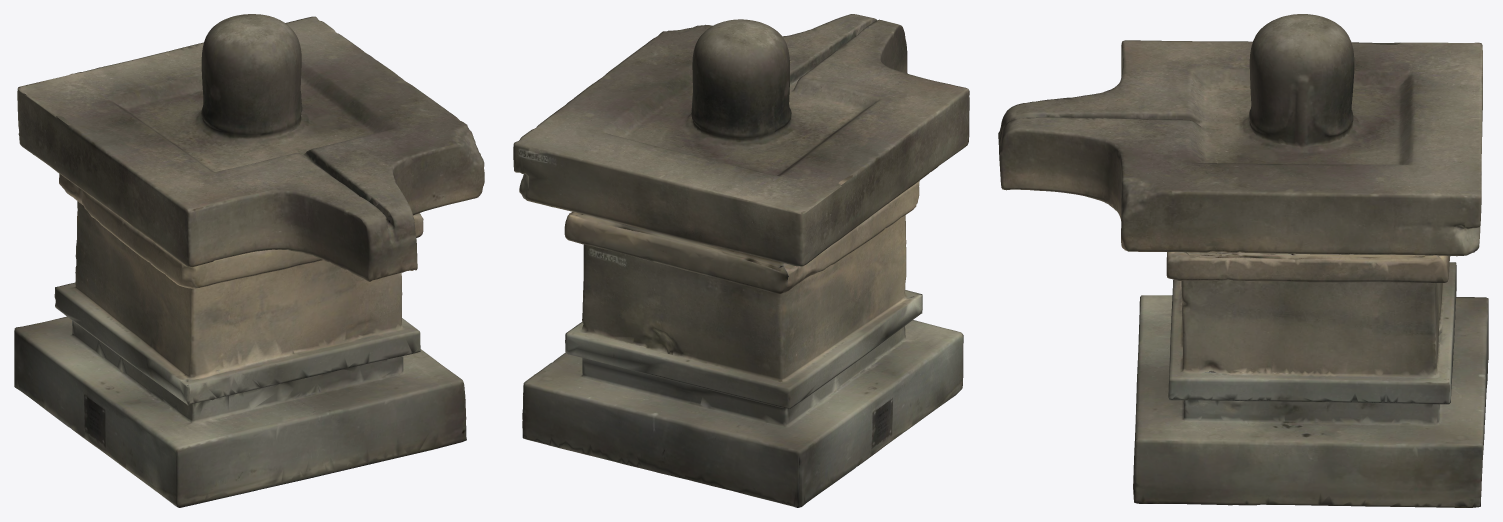
File: MysonMuseum_lingavayoni_final.glb
3 views of the same model, side by side, from view 1: azimuth 30°, elevation 25°; view 2: azimuth 150°, elevation 25°; view 3: azimuth 270°, elevation 25° (orthographic). The views are drawn at different scales.
Bounding box in the file's own units: 0.8195 × 1.02 × 1.1.
1 material, 1 textured.
